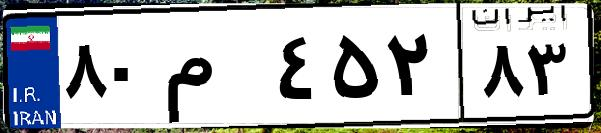0: (110, 28, 158, 98)
2: (385, 28, 445, 110)
3: (525, 38, 570, 115)
4: (270, 28, 330, 110)
5: (330, 28, 385, 110)
8: (57, 26, 110, 100), (475, 38, 525, 113)
م: (158, 20, 270, 120)
